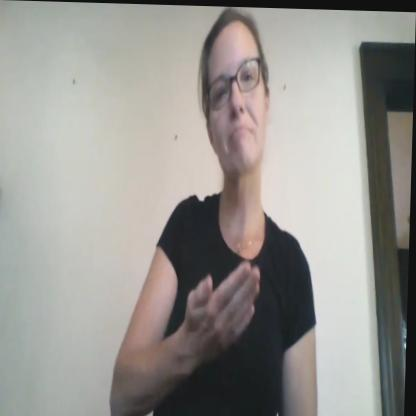ThankYou: (173, 21, 282, 398)
